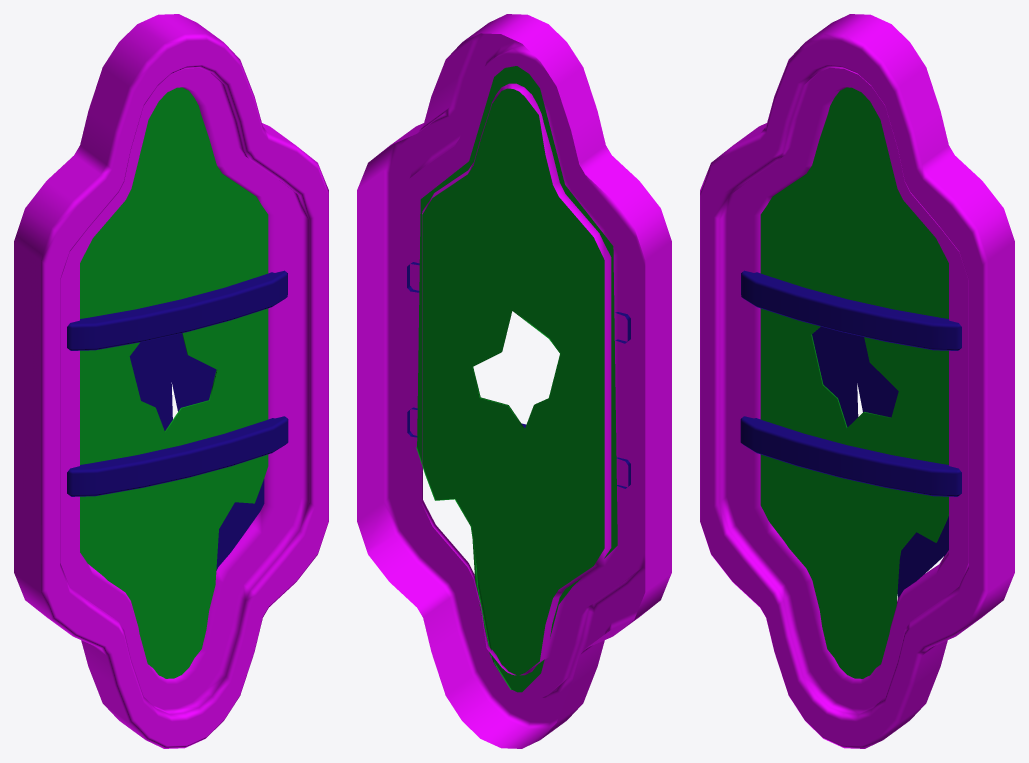
Rendered from Fenetre_Simple_03_4x4x0.fbx.
3 views of the same model, side by side, from view 1: azimuth 30°, elevation 25°; view 2: azimuth 150°, elevation 25°; view 3: azimuth 330°, elevation 25° (orthographic).
Parts seen in each view (by area): view 1: Fenetre_Simple_03_4x4x0_LOD0; view 2: Fenetre_Simple_03_4x4x0_LOD0; view 3: Fenetre_Simple_03_4x4x0_LOD0.
Boxes of the visible parts, x1,y1,x2,y2 form: Fenetre_Simple_03_4x4x0_LOD0: [14, 14, 328, 748]; Fenetre_Simple_03_4x4x0_LOD0: [357, 14, 671, 748]; Fenetre_Simple_03_4x4x0_LOD0: [700, 14, 1014, 748].
Size of the model in its own units: 91.33 by 216 by 17.55.
